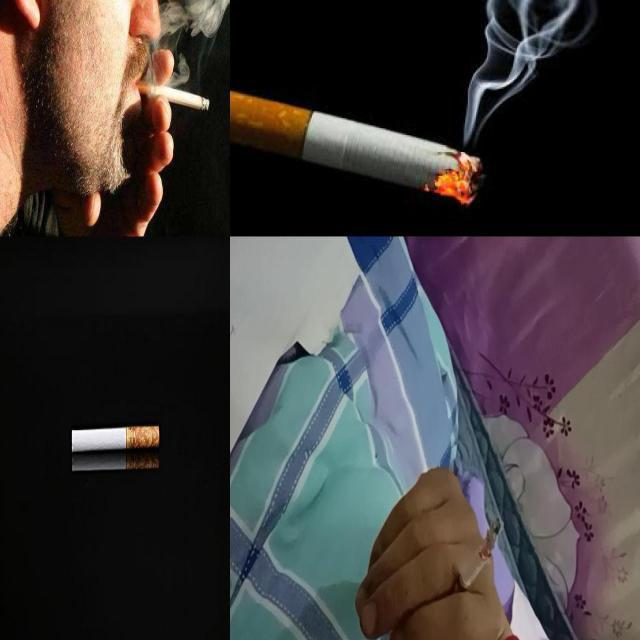smoking: (230, 86, 484, 206), (451, 516, 504, 600), (128, 76, 210, 112), (71, 425, 162, 453), (72, 452, 160, 472)
